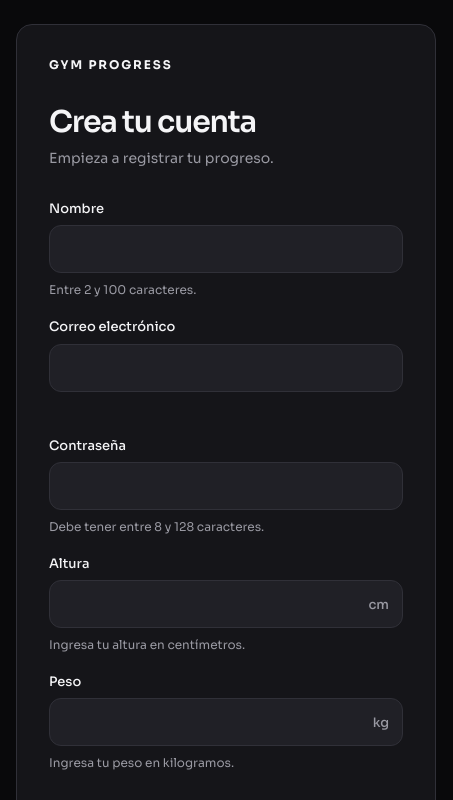
Test case: formularios de autenticación › muestra EMAIL_ALREADY_EXISTS junto al correo y lo borra al corregirlo
Step 1. Type "Ana" into the field labelled "Nombre" → (226, 249), box [49,225,403,273]
Step 2. Type "ana@example.com" into the field labelled "Correo electrónico" → (226, 368), box [49,344,403,392]
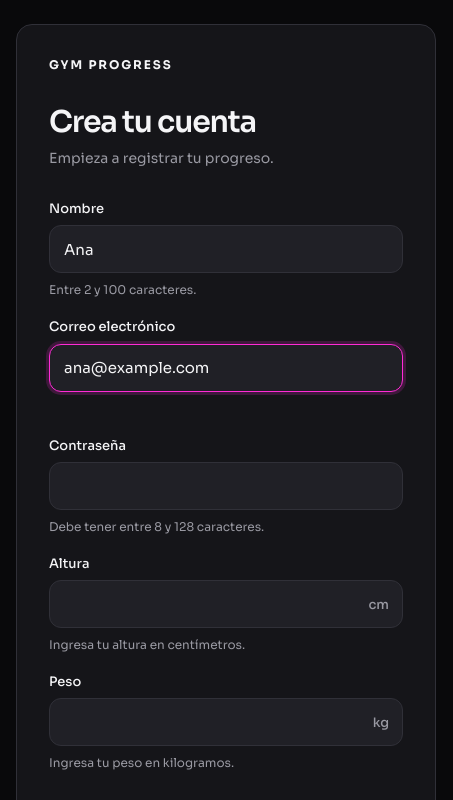
Step 3. Type "password-123" into the password field labelled "Contraseña" → (226, 486), box [49,462,403,510]
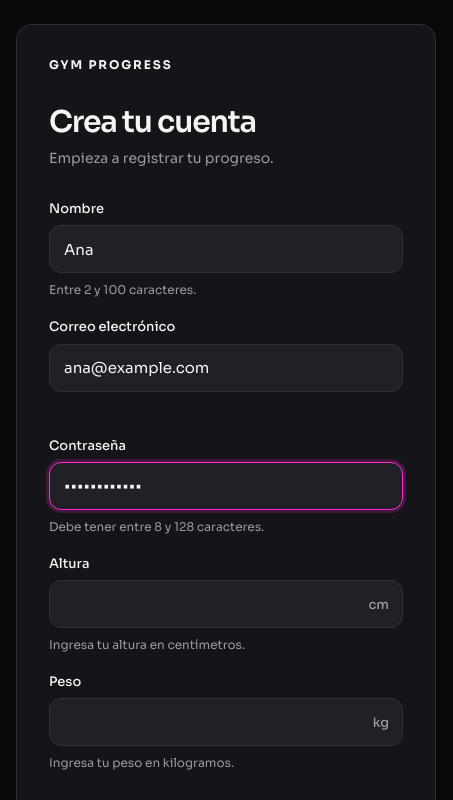
Step 4. Type "170" into the field labelled "Altura" → (226, 604), box [49,580,403,628]
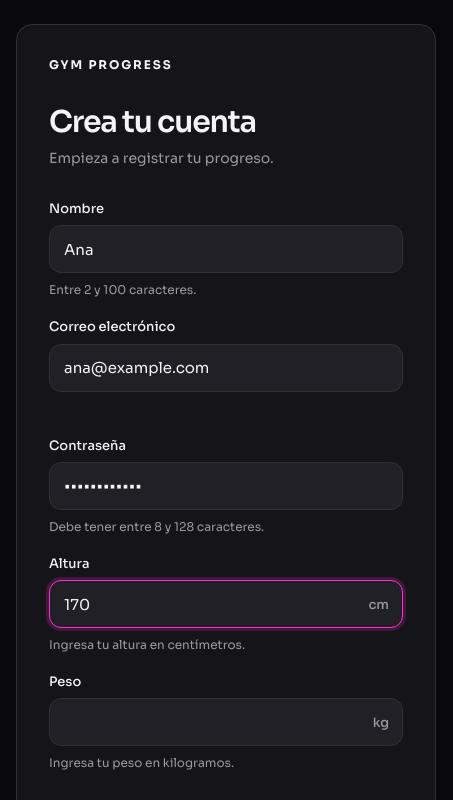
Step 5. Type "65" into the field labelled "Peso" → (226, 722), box [49,698,403,746]
(page scrolled)
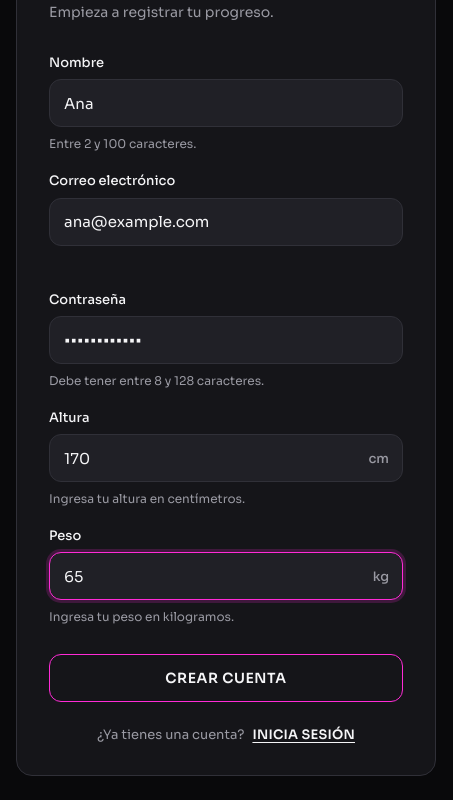
Step 6. Click the button "CREAR CUENTA" → click(226, 678), box [49,654,403,702]
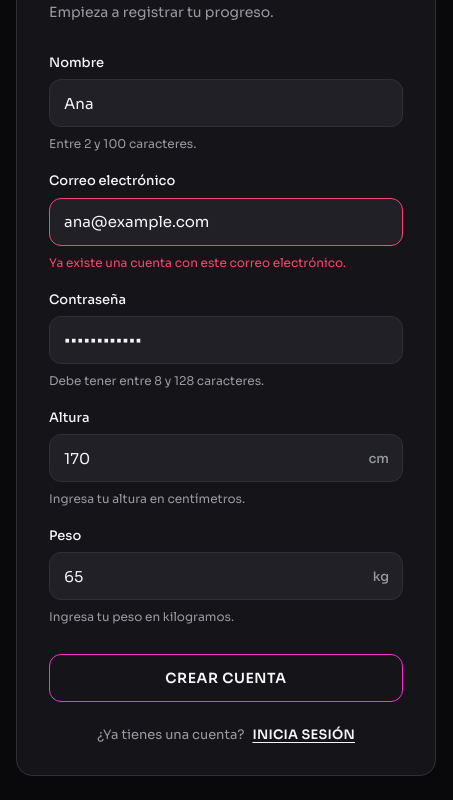
Expected: the text "Ya existe una cuenta con este correo electrónico." is shown, [49,254,346,270]
Step 7. Type "x" into the field labelled "Correo electrónico" → (226, 222), box [49,198,403,246]
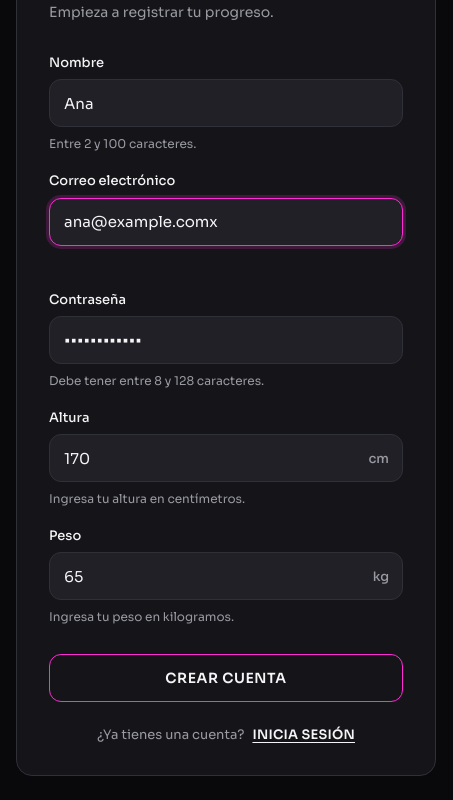
Expected: the text "Ya existe una cuenta con este correo electrónico." is gone
